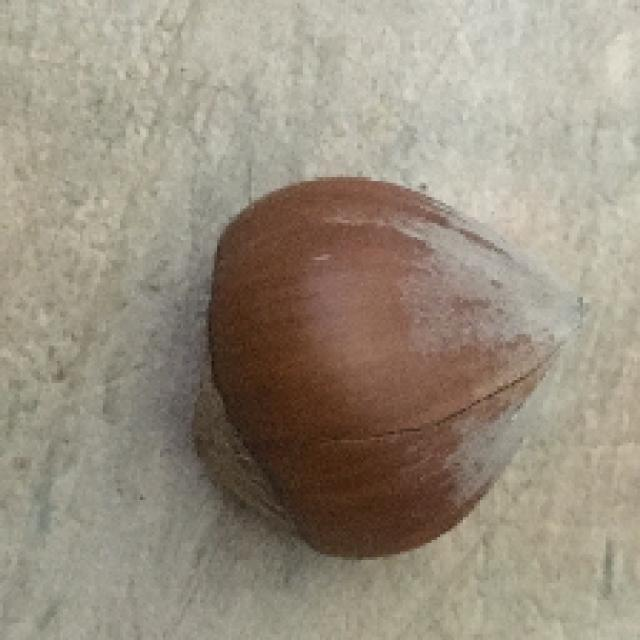QualityHazelnut: (188, 174, 599, 564)
